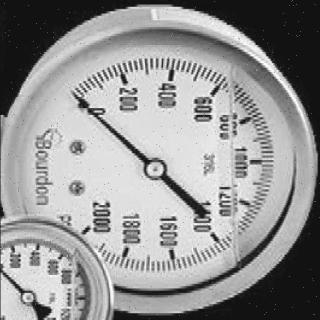gauge: (0, 0, 320, 320), (0, 215, 115, 320), (59, 84, 108, 125), (64, 206, 104, 252), (140, 156, 166, 182), (18, 287, 36, 307), (65, 87, 81, 103)
